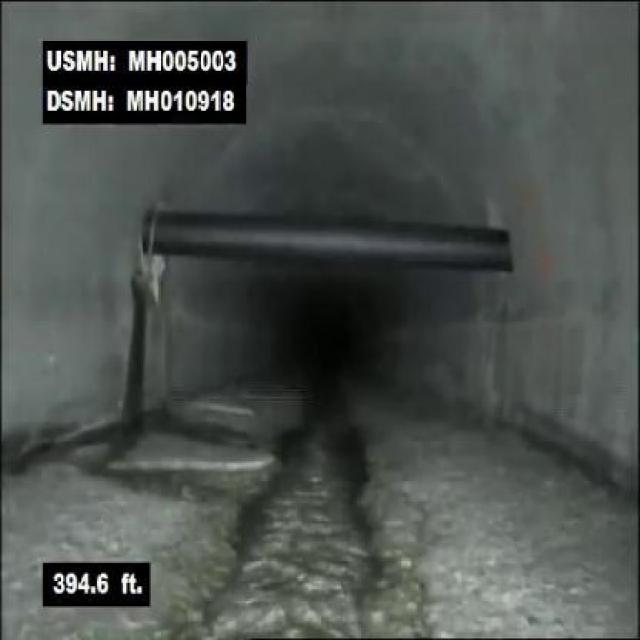Crack: (106, 454, 277, 477)
Utility intrusion: (127, 203, 518, 277)
